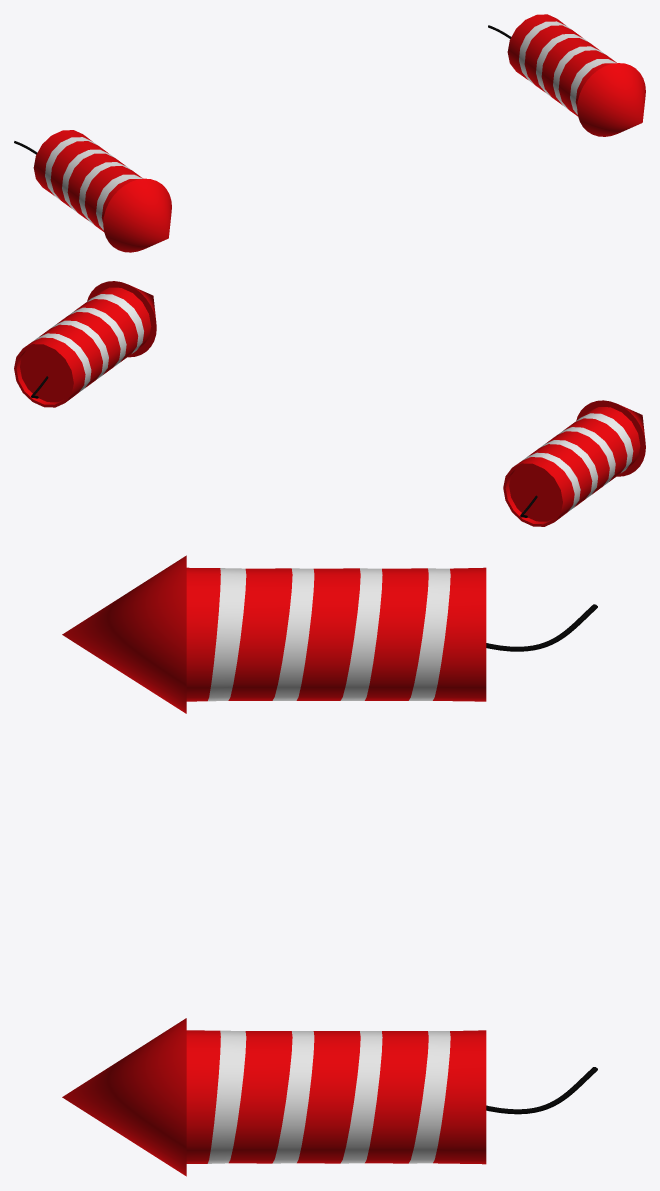
The model's file is Foguetes Power Up.fbx.
3 renders of one model, top to bottom at view 1: azimuth 30°, elevation 25°; view 2: azimuth 150°, elevation 25°; view 3: azimuth 270°, elevation 25°, orthographic. The views are drawn at different scales.
Visible parts, largest first — view 1: Cylinder.005; view 2: Cylinder.005; view 3: Cylinder.005.
Boxes of the visible parts, x1,y1,x2,y2 form: Cylinder.005: [14, 14, 645, 252]; Cylinder.005: [14, 281, 645, 526]; Cylinder.005: [62, 555, 597, 1176].
Size of the model in its own units: 226 by 28.68 by 96.67.
